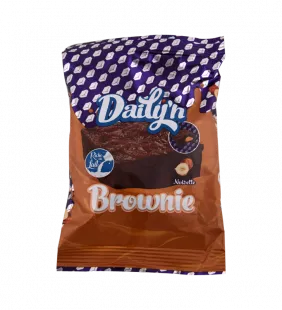DAILY'N: (52, 28, 236, 284)
